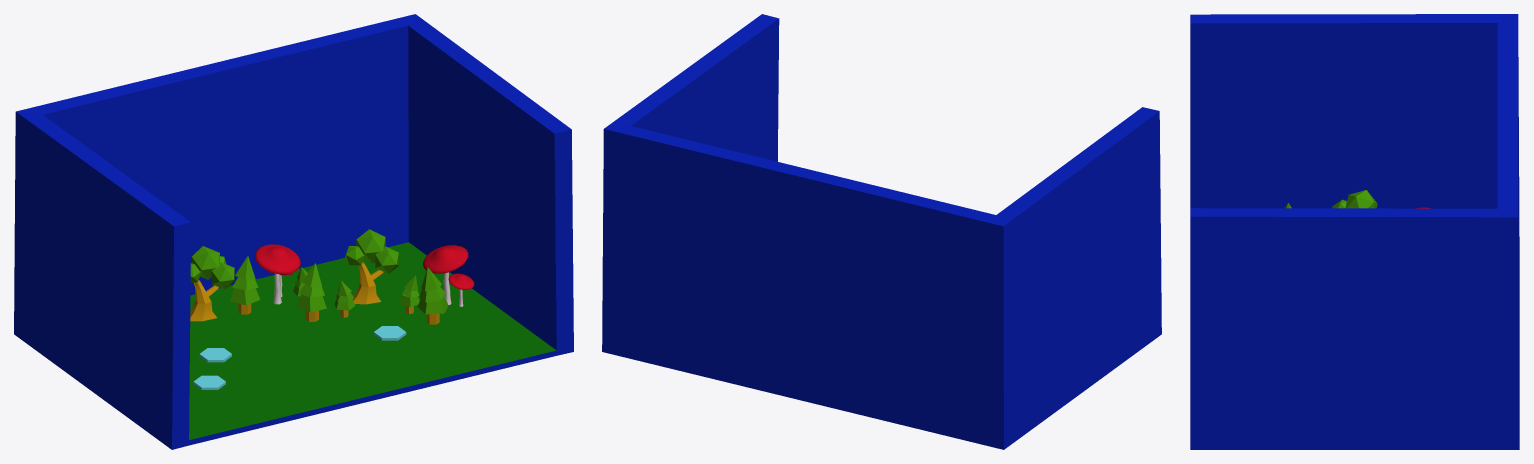
Rendered from KillingFloor.fbx.
The picture shows the model from 3 angles, left to right: view 1: azimuth 30°, elevation 25°; view 2: azimuth 150°, elevation 25°; view 3: azimuth 270°, elevation 25°; orthographic projection. The views are drawn at different scales.
Visible parts, largest first — view 1: pCube237, pCylinder606, pCylinder610, pCylinder612, pCylinder615, pPlatonic38, pPlatonic28; view 2: pCube237; view 3: pCube237, pPlatonic36.
Part boxes in pixels (left/top/right/bottom): pCube237: left=14, top=14, right=573, bottom=449; pCylinder606: left=254, top=244, right=300, bottom=274; pCylinder610: left=423, top=245, right=468, bottom=273; pCylinder612: left=190, top=280, right=218, bottom=321; pCylinder615: left=352, top=262, right=383, bottom=304; pPlatonic38: left=356, top=229, right=385, bottom=263; pPlatonic28: left=191, top=246, right=219, bottom=279; pCube237: left=602, top=14, right=1161, bottom=449; pCube237: left=1190, top=14, right=1519, bottom=449; pPlatonic36: left=1345, top=190, right=1377, bottom=208.
Bounding box in the file's own units: 505 × 268 × 344.
